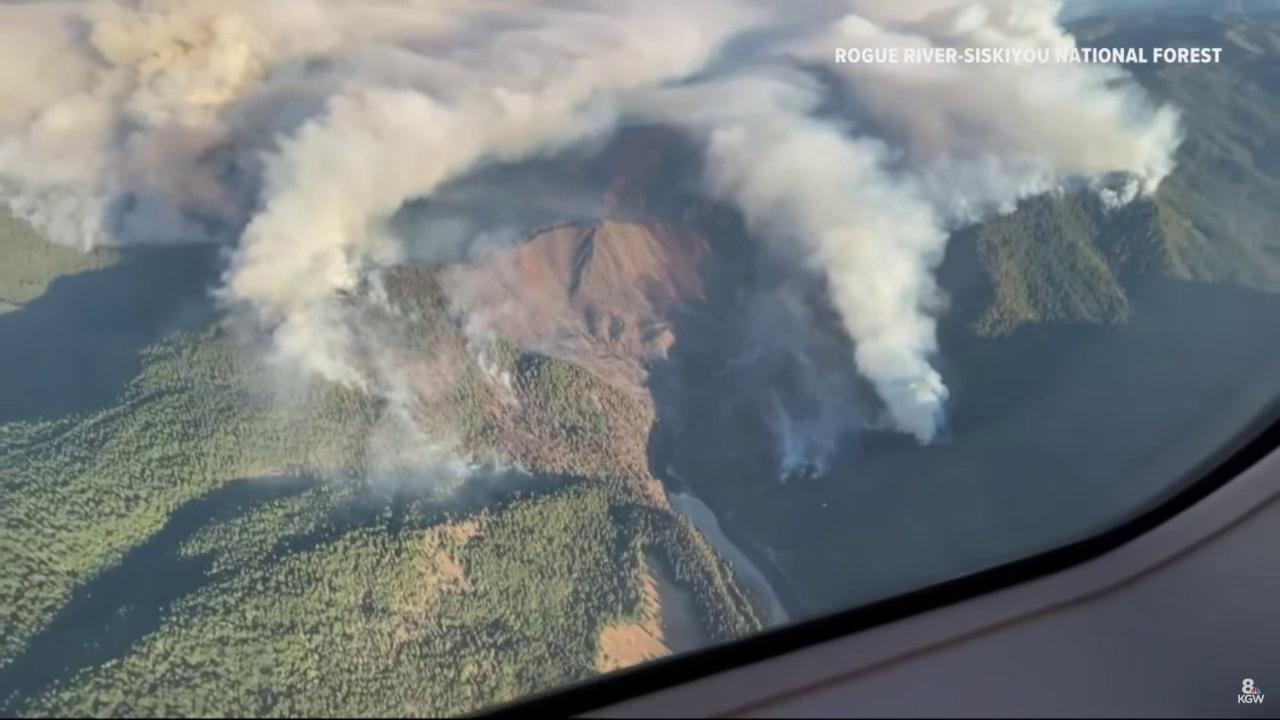smoke: (0, 0, 1192, 516)
